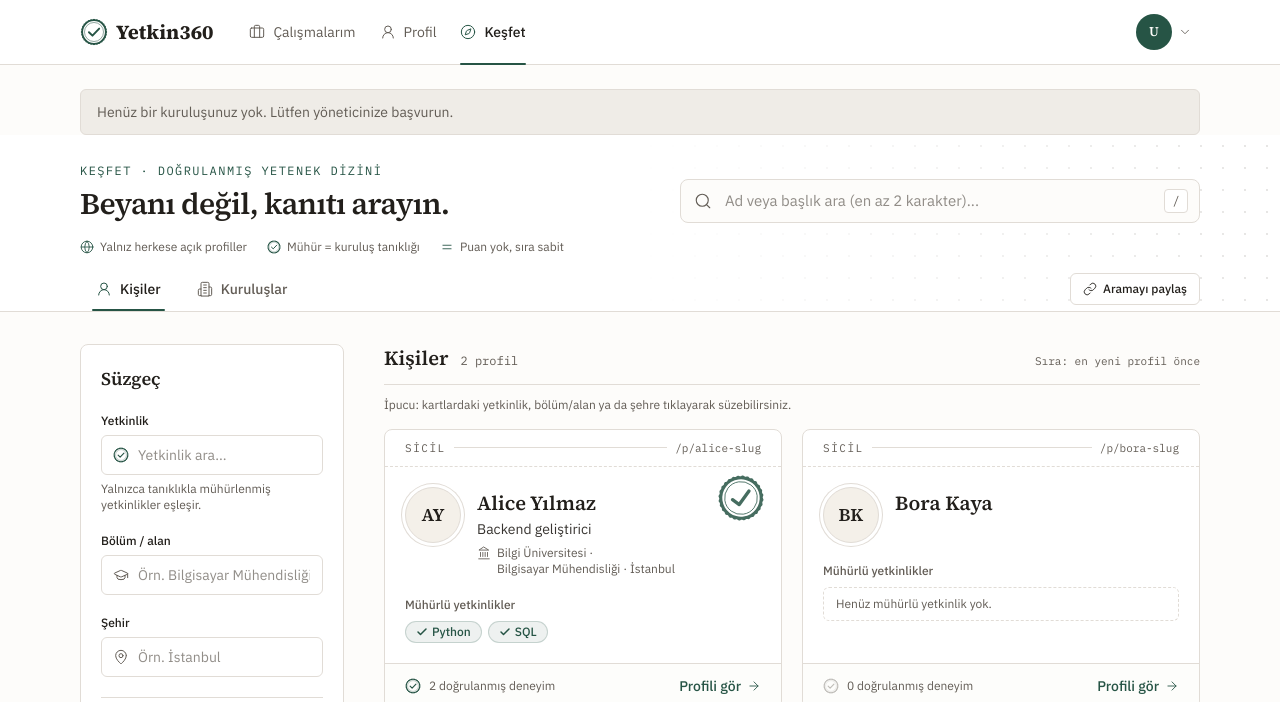
Test: KesfetPage (/kesfet) › Karttan süzme ve paylaşılabilir adres › karttaki şehre tıklayınca şehir filtresi uygulanır
Step 1. Click the button "İstanbul" → (652, 569), box [630,561,675,577]
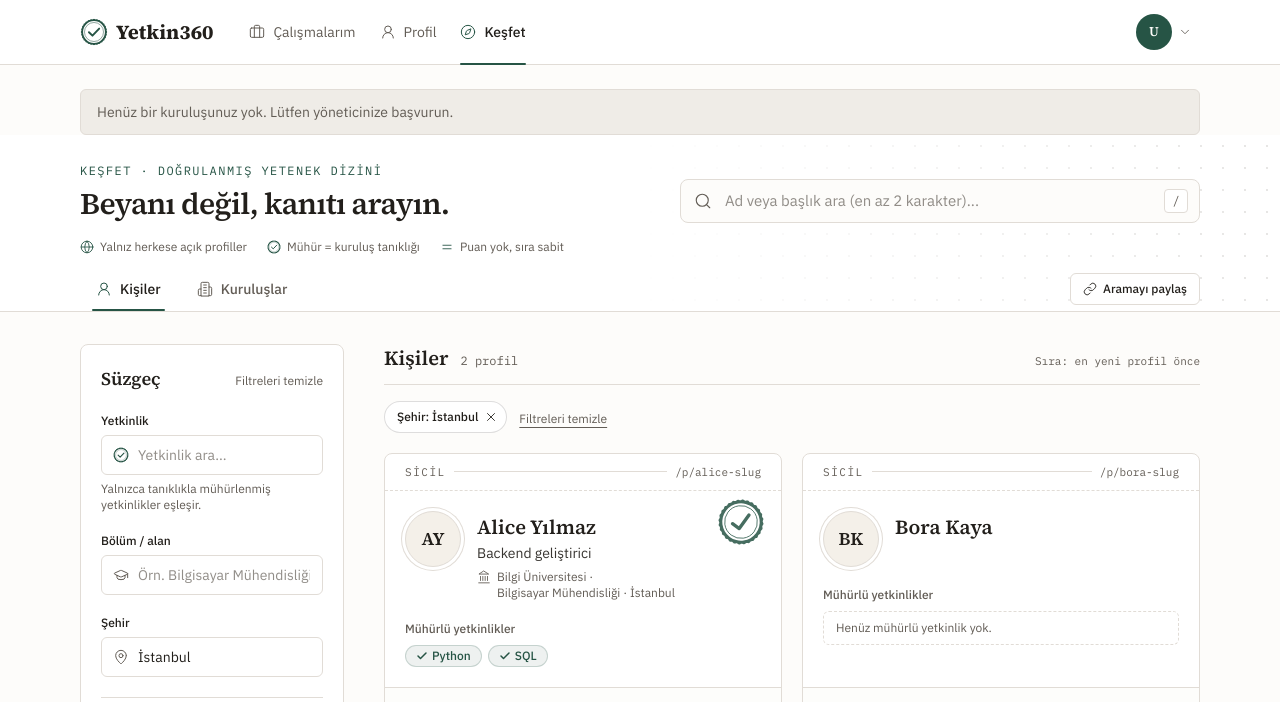
Expected: the field labelled "Şehir" holds "İstanbul", [101,636,323,676]
